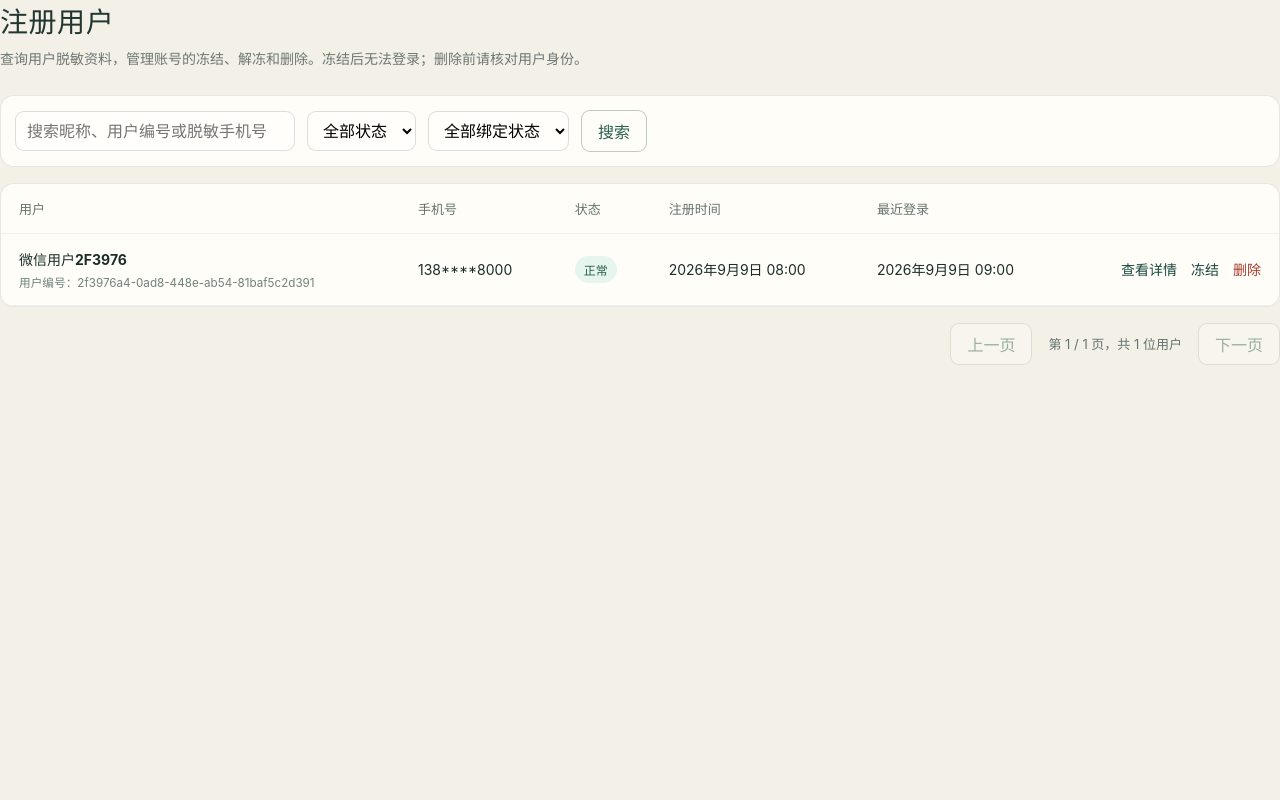
Test case: UsersPage › deletes only after explicit confirmation, sends CSRF and refreshes the empty list
Expected: the text "微信用户2F3976" is shown, [19,251,127,268]
Step 1. Click the button "删除" → (1247, 269), box [1233,252,1261,286]
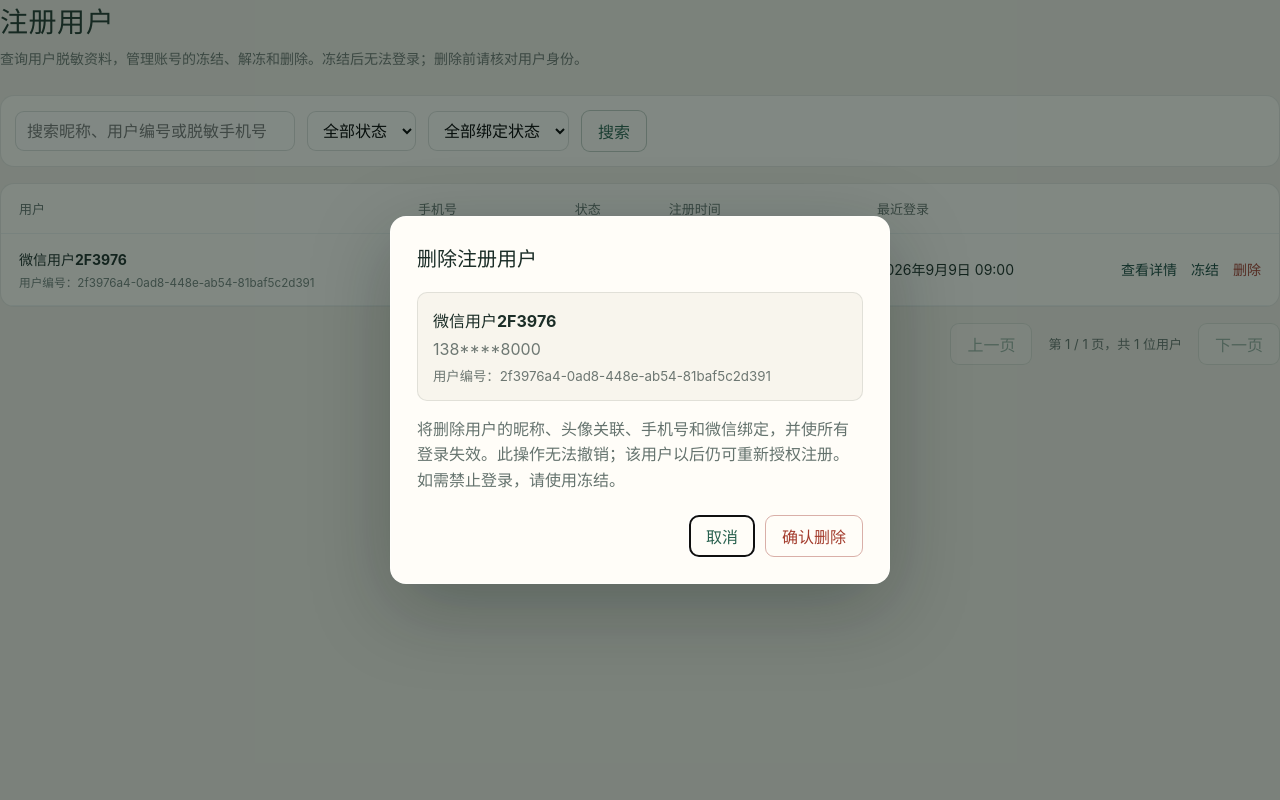
Result: the dialog shows "此操作无法撤销" at [417,419,849,490]
Result: the dialog shows "以后仍可重新授权注册" at [417,419,849,490]
Result: the text "138****8000" is shown at [433,339,541,359]
Step 2. Click the button "确认删除" → (814, 536), box [765,515,863,557]
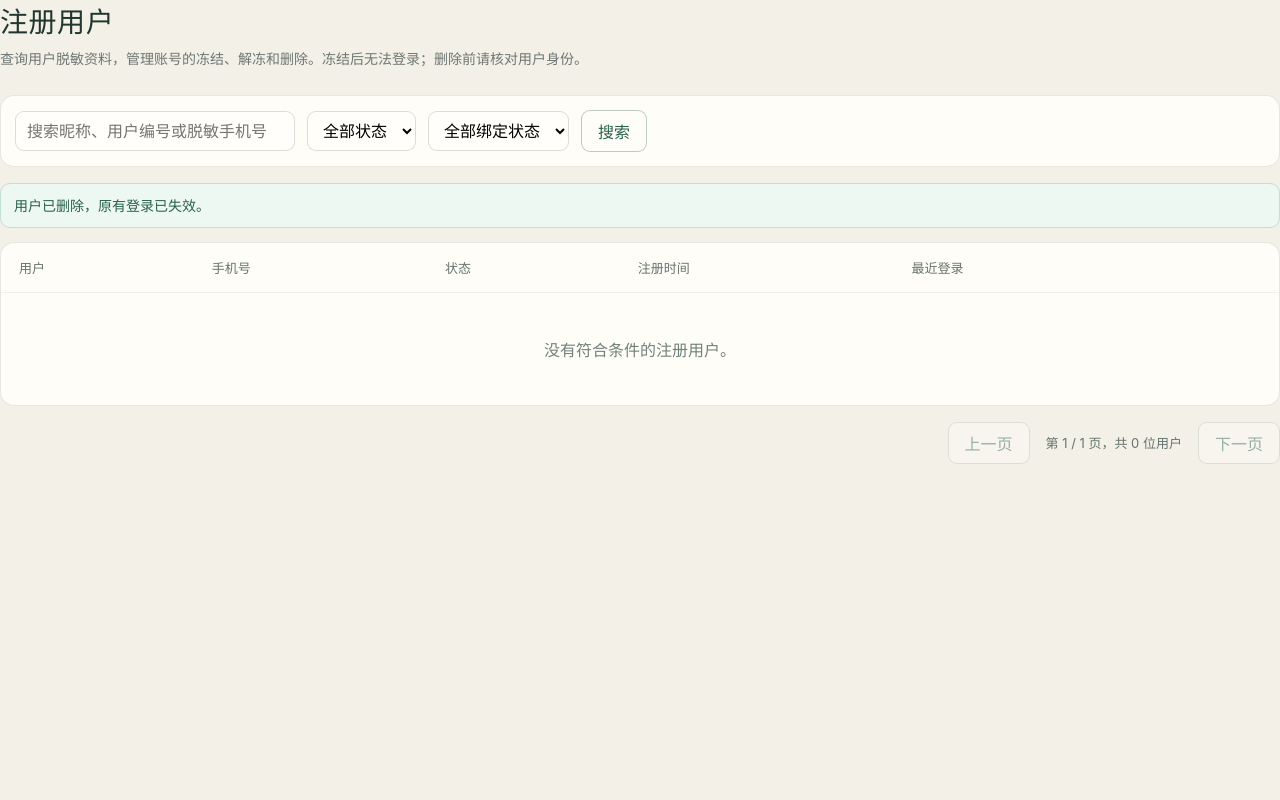
Result: the text "没有符合条件的注册用户。" is shown at [544,340,736,360]
Result: the dialog is gone
